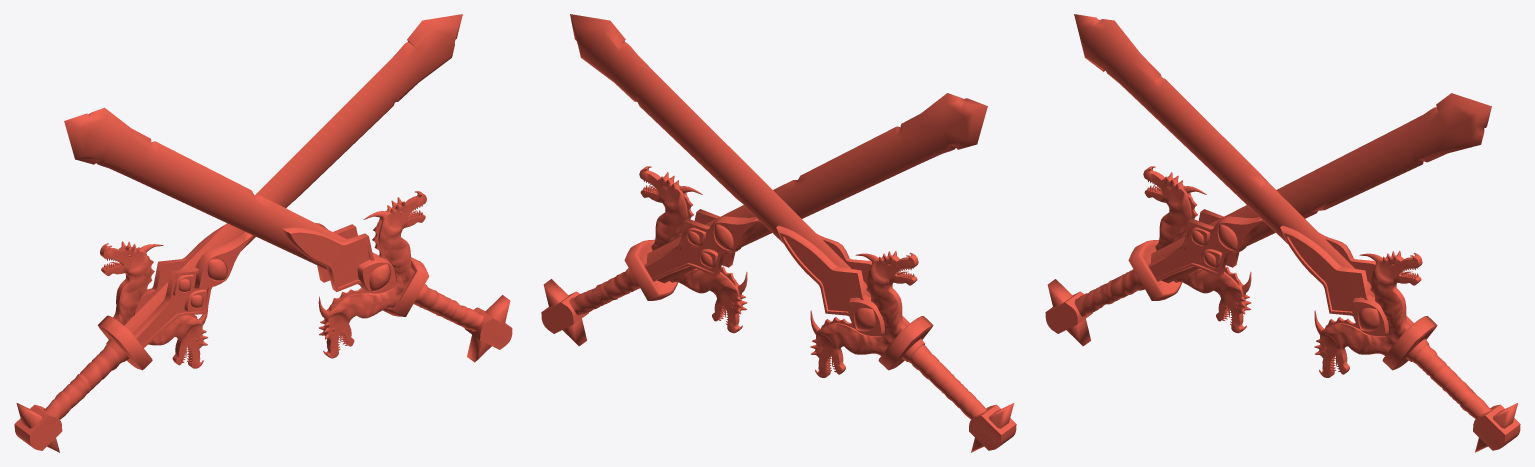
The model's file is sword.fbx.
The picture shows the model from 3 angles, left to right: view 1: azimuth 30°, elevation 25°; view 2: azimuth 150°, elevation 25°; view 3: azimuth 330°, elevation 25°; orthographic projection.
Visible parts, largest first — view 1: DRAGON_SWORD_ENGINE001, DRAGON_SWORD_ENGINE; view 2: DRAGON_SWORD_ENGINE, DRAGON_SWORD_ENGINE001; view 3: DRAGON_SWORD_ENGINE001, DRAGON_SWORD_ENGINE.
Part boxes in pixels (bbox=[...]): DRAGON_SWORD_ENGINE001: bbox=[64, 107, 512, 362]; DRAGON_SWORD_ENGINE: bbox=[14, 14, 462, 452]; DRAGON_SWORD_ENGINE: bbox=[570, 14, 1016, 452]; DRAGON_SWORD_ENGINE001: bbox=[541, 93, 987, 346]; DRAGON_SWORD_ENGINE001: bbox=[1074, 14, 1520, 452]; DRAGON_SWORD_ENGINE: bbox=[1045, 93, 1491, 346].
Bounding box in the file's own units: 74.13 × 9.59 × 50.83.
